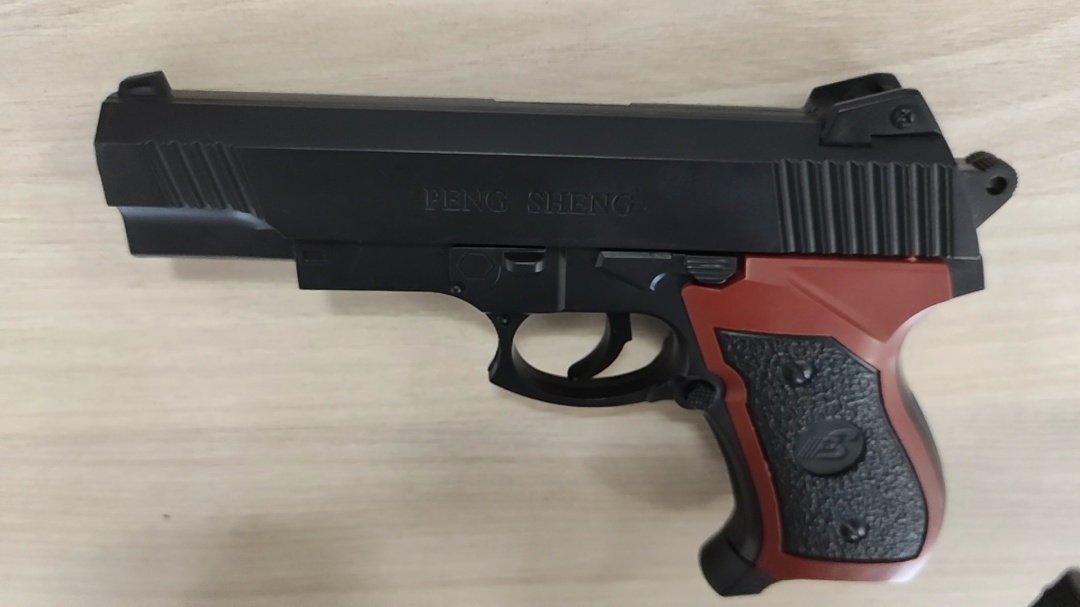gun: (93, 54, 1019, 597)
